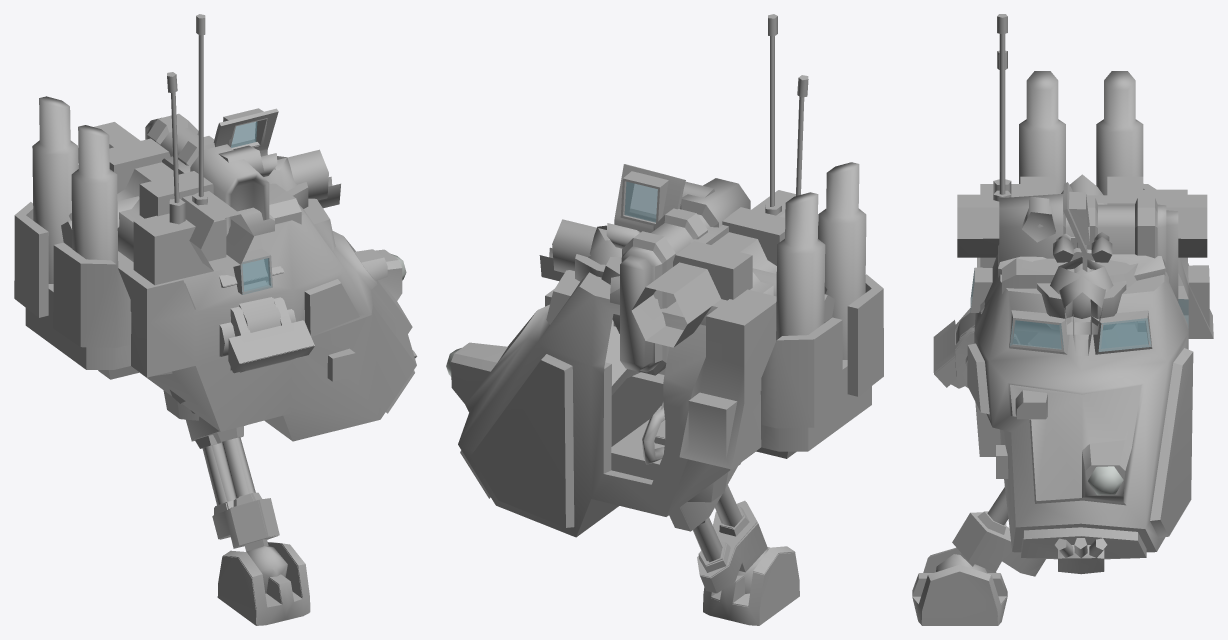
File: sentinel_lascannon_rocket-0emafm6.glb
The picture shows the model from 3 angles, left to right: view 1: azimuth 30°, elevation 25°; view 2: azimuth 150°, elevation 25°; view 3: azimuth 270°, elevation 25°; orthographic projection. The views are drawn at different scales.
Parts seen in each view (by area): view 1: turret, turret_interior, body, gun1, legr3, legl2, legl3, legl4, legr4, gun, door, legl1 (+2 smaller); view 2: turret, turret_interior, body, gun1, legr3, legr4, door, legl3, gun, legl4; view 3: turret, turret_interior, body, gun1, legl4, legl3, gun, gun_rot_melta, door, legr2, legl2, legl1 (+1 smaller).
Boxes of the visible parts, left/top/right/bottom form: turret: left=14, top=14, right=417, bottom=441; turret_interior: left=14, top=97, right=415, bottom=440; body: left=78, top=122, right=308, bottom=271; gun1: left=145, top=113, right=269, bottom=281; legr3: left=191, top=425, right=278, bottom=593; legl2: left=170, top=297, right=313, bottom=413; legl3: left=186, top=416, right=287, bottom=577; legl4: left=223, top=542, right=310, bottom=625; legr4: left=217, top=543, right=309, bottom=625; gun: left=61, top=149, right=340, bottom=248; door: left=213, top=108, right=278, bottom=156; legl1: left=219, top=259, right=282, bottom=332; turret: left=446, top=14, right=883, bottom=537; turret_interior: left=451, top=163, right=883, bottom=537; body: left=575, top=190, right=818, bottom=347; gun1: left=620, top=178, right=750, bottom=375; legr3: left=642, top=419, right=767, bottom=593; legr4: left=703, top=552, right=799, bottom=625; door: left=613, top=164, right=685, bottom=326; legl3: left=642, top=408, right=768, bottom=577; gun: left=539, top=219, right=834, bottom=322; legl4: left=703, top=546, right=799, bottom=607; turret: left=967, top=14, right=1213, bottom=574; turret_interior: left=967, top=71, right=1213, bottom=558; body: left=957, top=176, right=1207, bottom=329; gun1: left=999, top=193, right=1178, bottom=334; legl4: left=912, top=547, right=1006, bottom=625; legl3: left=936, top=487, right=1045, bottom=573; gun: left=1059, top=174, right=1105, bottom=355; gun_rot_melta: left=1002, top=258, right=1070, bottom=293; door: left=1063, top=182, right=1089, bottom=271; legr2: left=934, top=321, right=1029, bottom=388; legl2: left=933, top=308, right=1031, bottom=373; legl1: left=956, top=248, right=1094, bottom=343.
Bounding box in the file's own units: 46.98 × 70.9 × 33.56.
